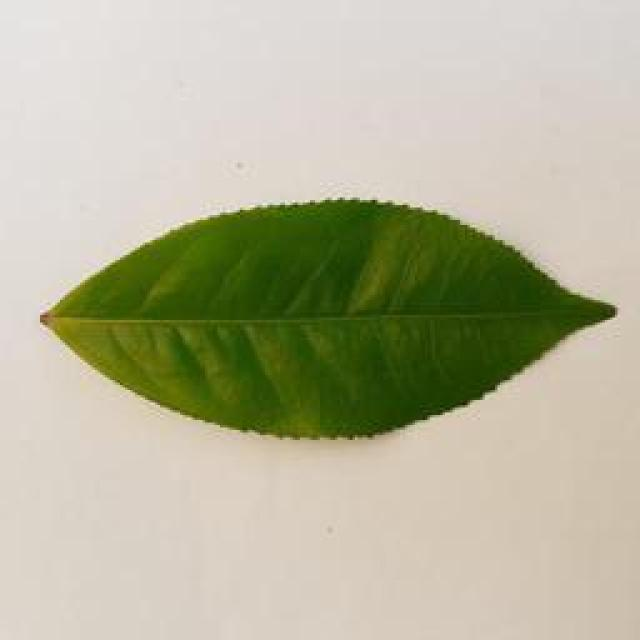Healthy: (47, 182, 619, 438)
